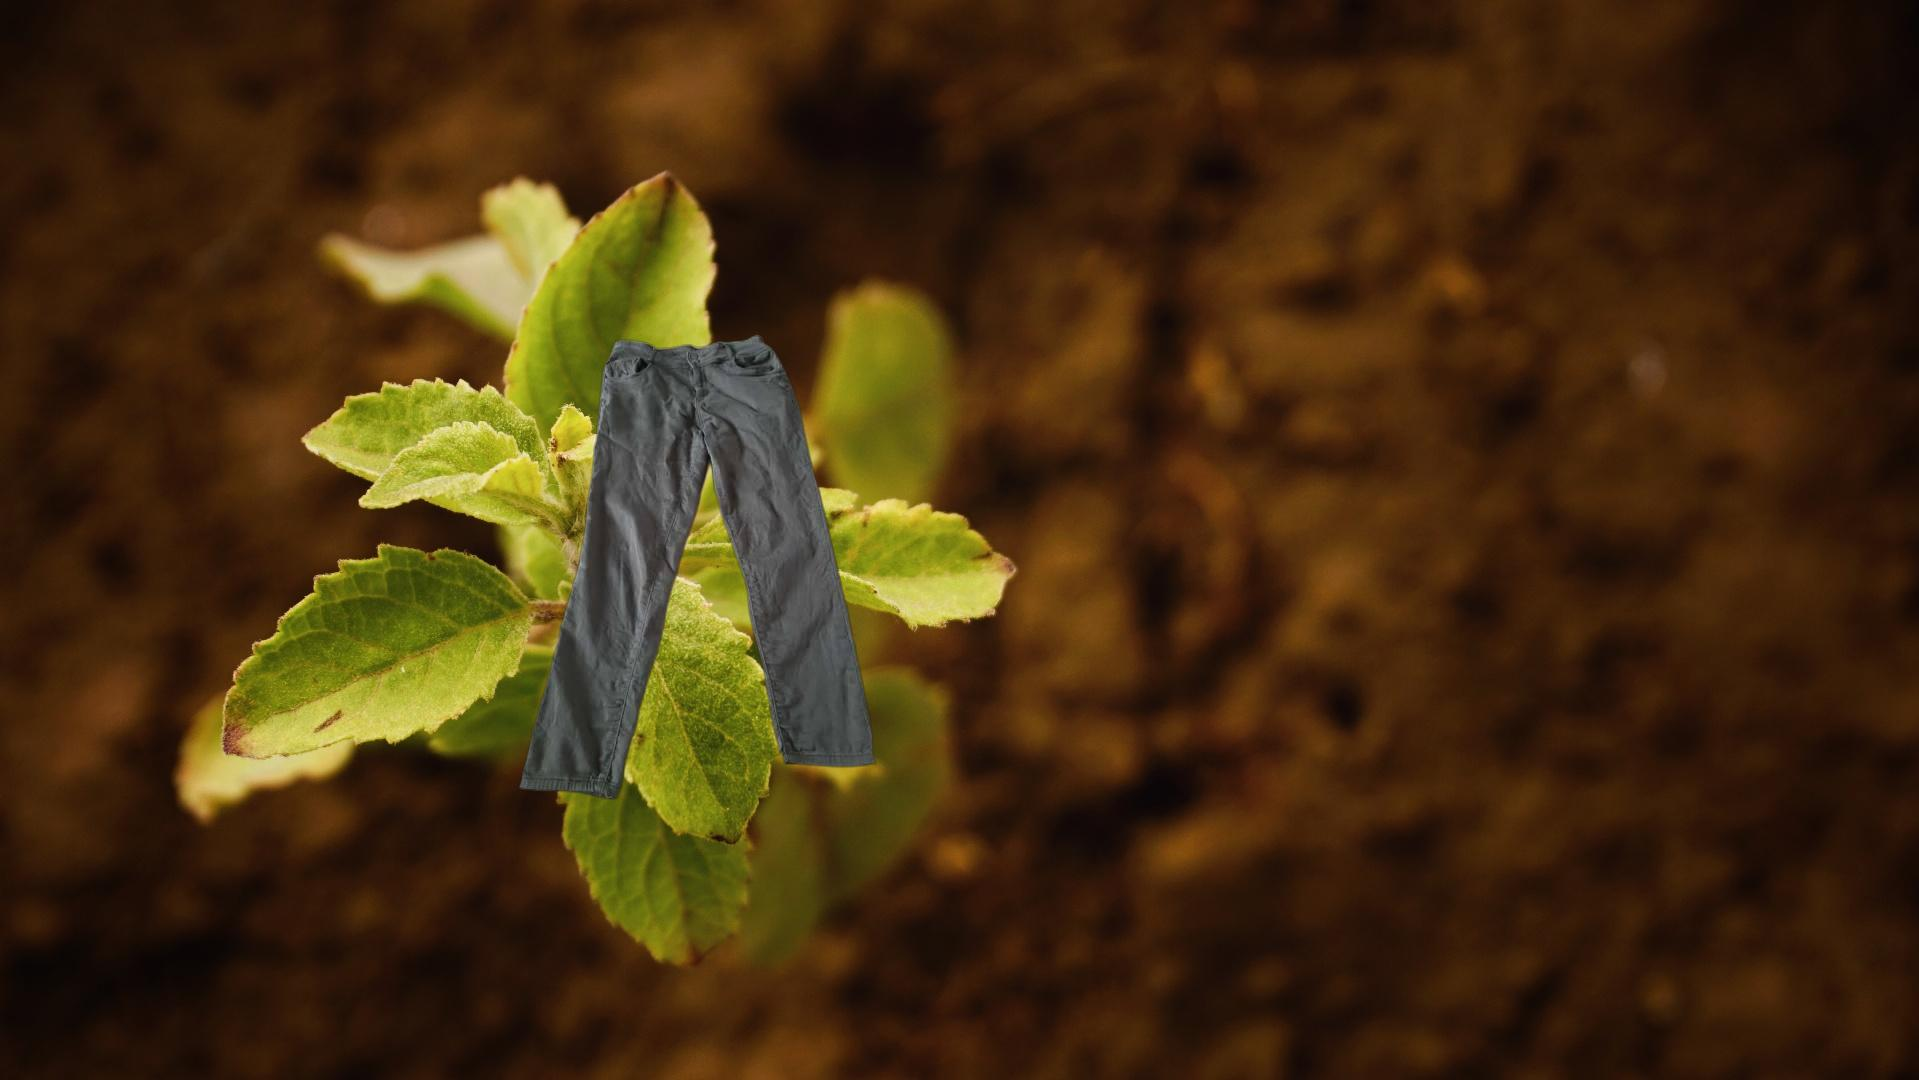clothes: (517, 331, 878, 803)
